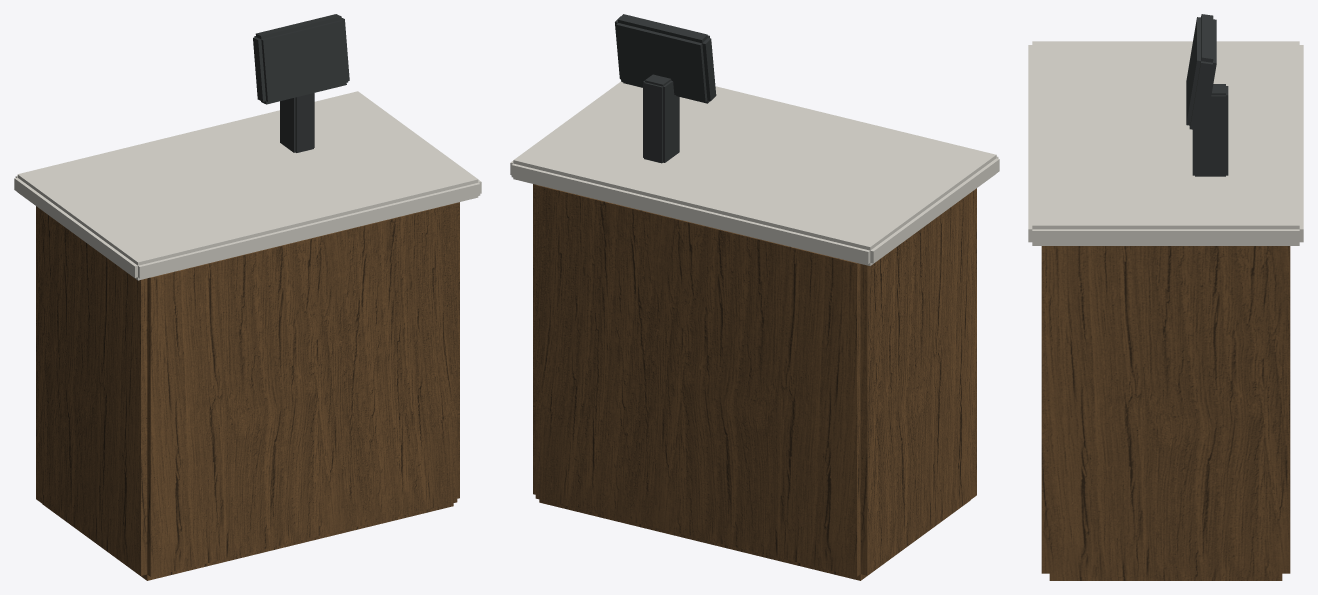
File: fixture_compact_checkout.glb
The picture shows the model from 3 angles, left to right: view 1: azimuth 30°, elevation 25°; view 2: azimuth 150°, elevation 25°; view 3: azimuth 270°, elevation 25°; orthographic projection. The views are drawn at different scales.
Visible parts, largest first — view 1: fixture_compact_checkout_CC0_Oak_veneer, fixture_compact_checkout_Honed_solid_surface, fixture_compact_checkout_Anodised_graphite; view 2: fixture_compact_checkout_CC0_Oak_veneer, fixture_compact_checkout_Honed_solid_surface, fixture_compact_checkout_Anodised_graphite; view 3: fixture_compact_checkout_CC0_Oak_veneer, fixture_compact_checkout_Honed_solid_surface, fixture_compact_checkout_Anodised_graphite.
Part boxes in pixels (left/top/right/bottom): fixture_compact_checkout_CC0_Oak_veneer: left=36, top=202, right=459, bottom=580; fixture_compact_checkout_Honed_solid_surface: left=14, top=91, right=481, bottom=280; fixture_compact_checkout_Anodised_graphite: left=253, top=14, right=349, bottom=152; fixture_compact_checkout_CC0_Oak_veneer: left=533, top=184, right=976, bottom=580; fixture_compact_checkout_Honed_solid_surface: left=510, top=81, right=999, bottom=265; fixture_compact_checkout_Anodised_graphite: left=615, top=14, right=716, bottom=163; fixture_compact_checkout_CC0_Oak_veneer: left=1041, top=246, right=1290, bottom=580; fixture_compact_checkout_Honed_solid_surface: left=1028, top=41, right=1303, bottom=245; fixture_compact_checkout_Anodised_graphite: left=1186, top=14, right=1228, bottom=176.
Bounding box in the file's own units: 1 × 1.24 × 0.62.
3 materials, 1 textured.
